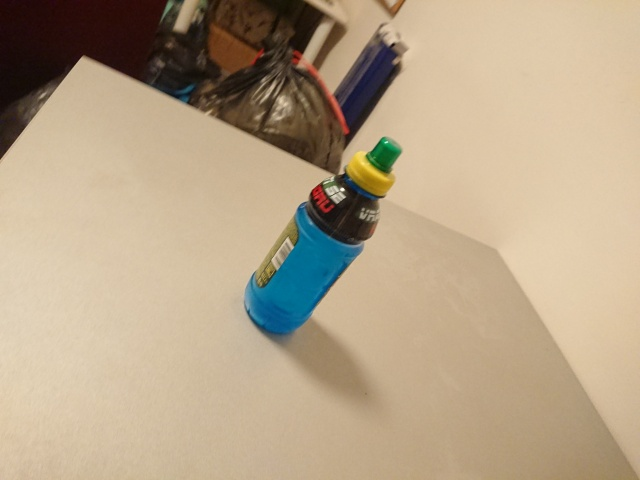Vindi Iso Sport Forest Strawberries 500mL: (242, 134, 405, 335)
